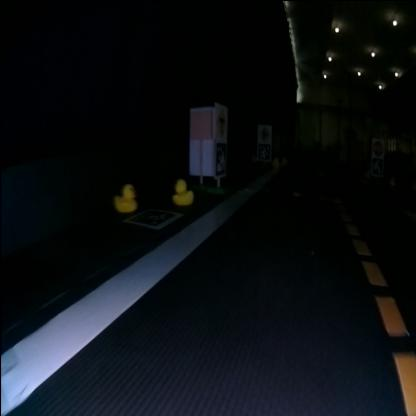Duckie: (113, 184, 138, 209), (173, 178, 194, 204), (389, 175, 395, 183), (273, 157, 279, 165)
Intersection sign: (216, 108, 227, 138), (258, 124, 270, 140)
QR code: (124, 207, 181, 227), (215, 142, 227, 176), (256, 142, 272, 160), (372, 158, 384, 174)
Stop sign: (372, 137, 384, 155)
